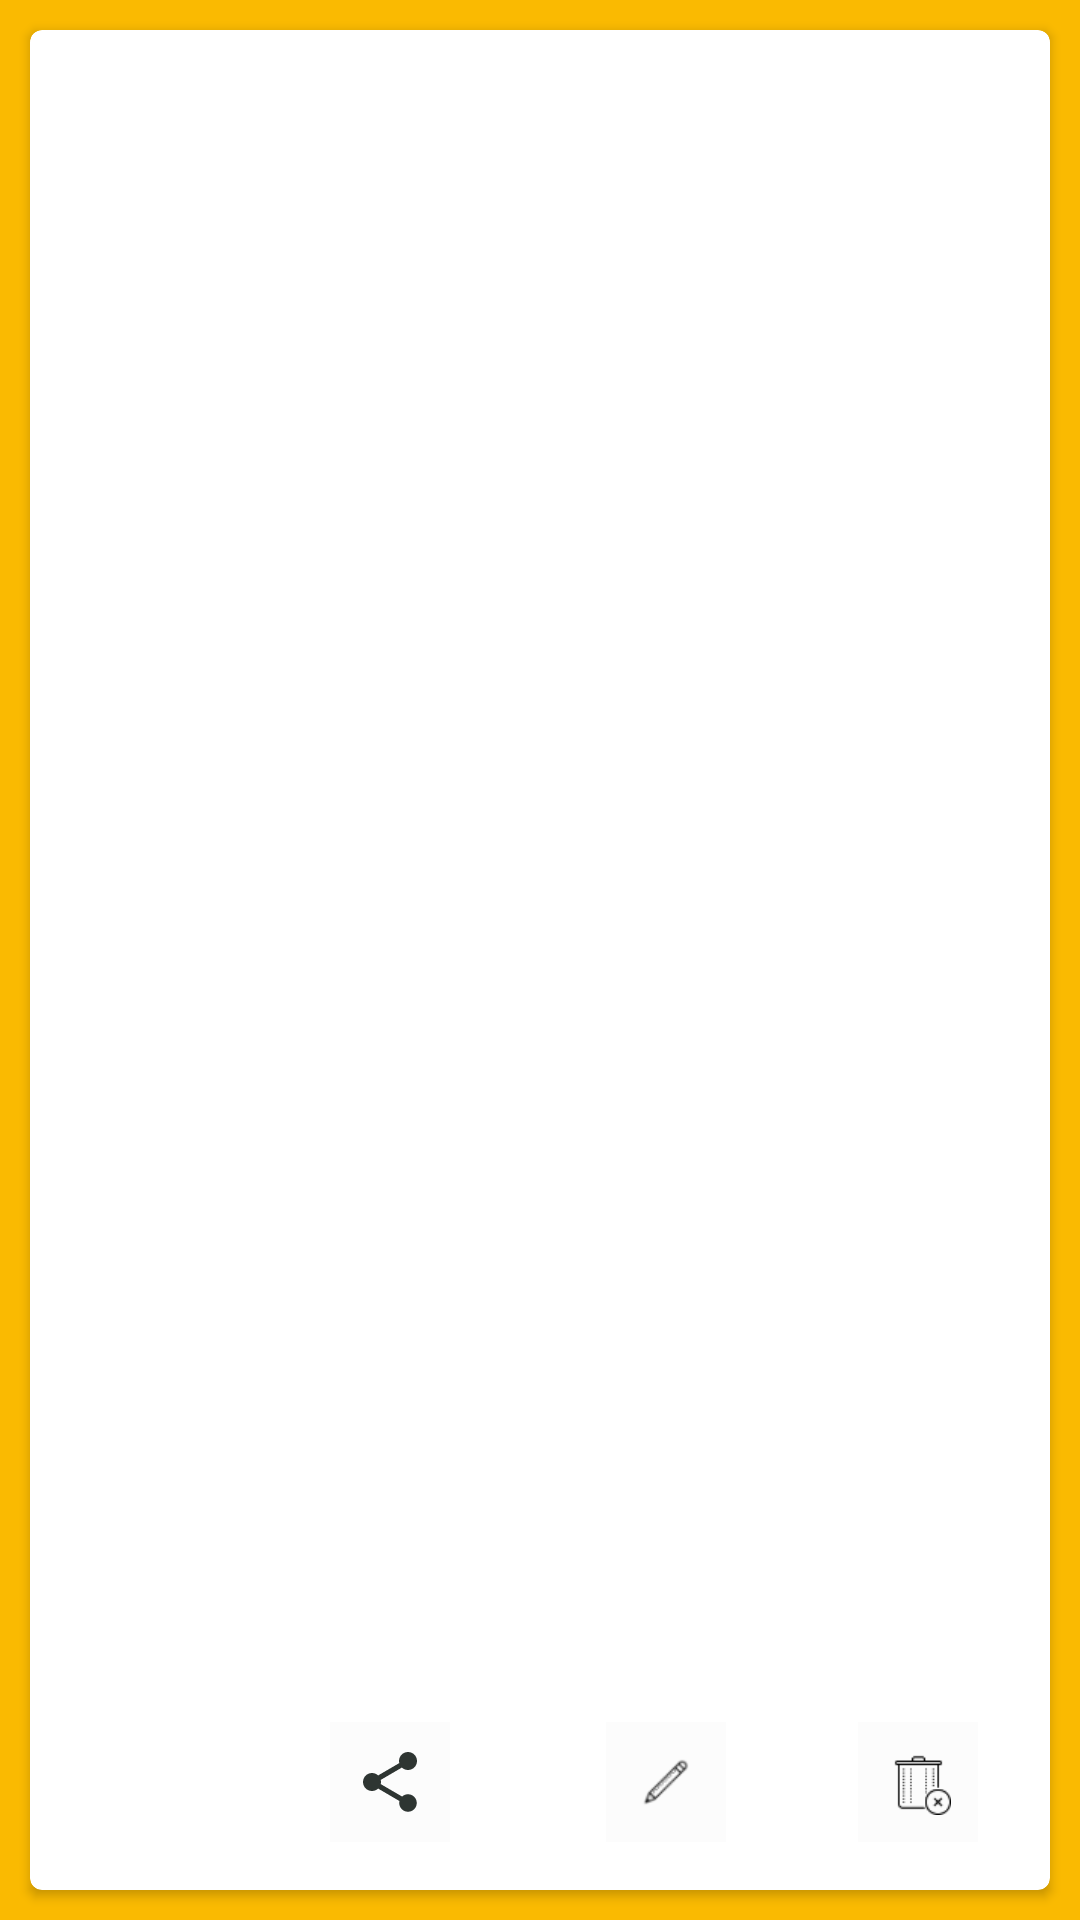

Icons on this 1080×1920 Android screen, each with its box as [x1, y1, x2, y2]:
delete forever: [894, 1755, 951, 1815]
edit: [644, 1760, 688, 1804]
share: [363, 1752, 417, 1812]
